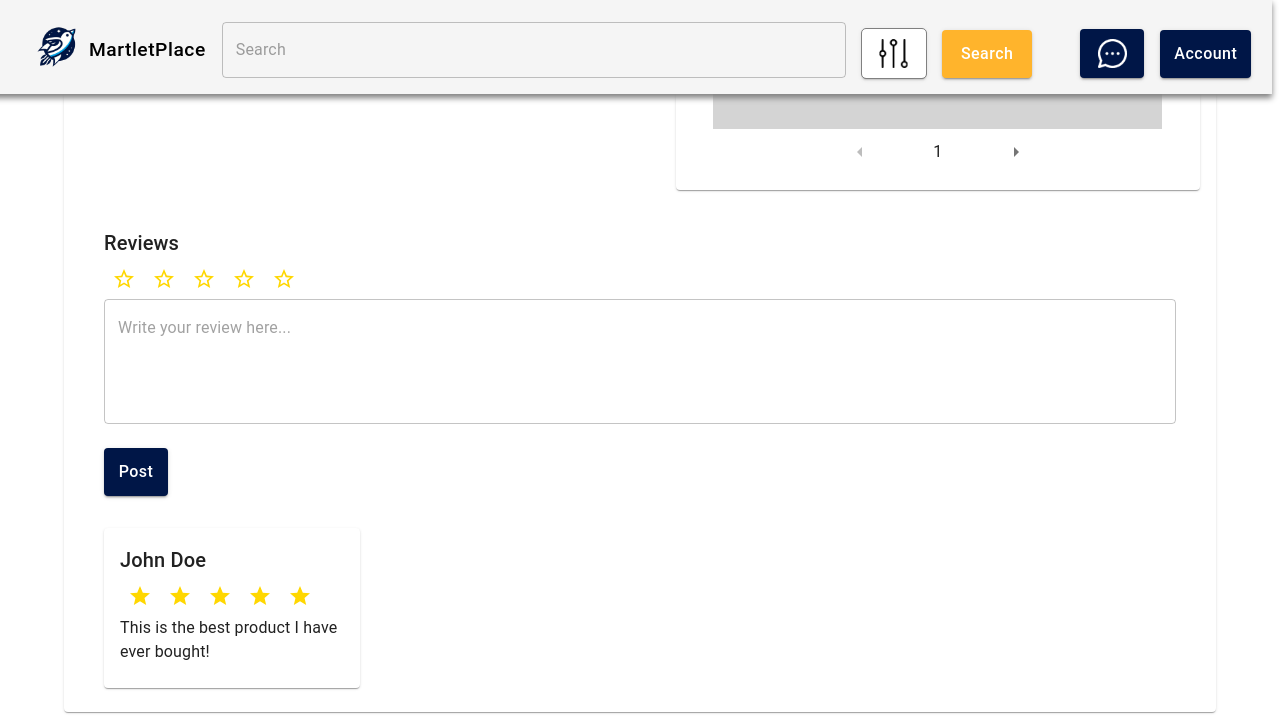
Test: <ViewListing/> › should show an error if review is not correct format
(page scrolled)
Type "This is a great product!" into the text box with id "review_text".
click(640, 362); type("This is a great product!")  # box [118,316,1162,408]
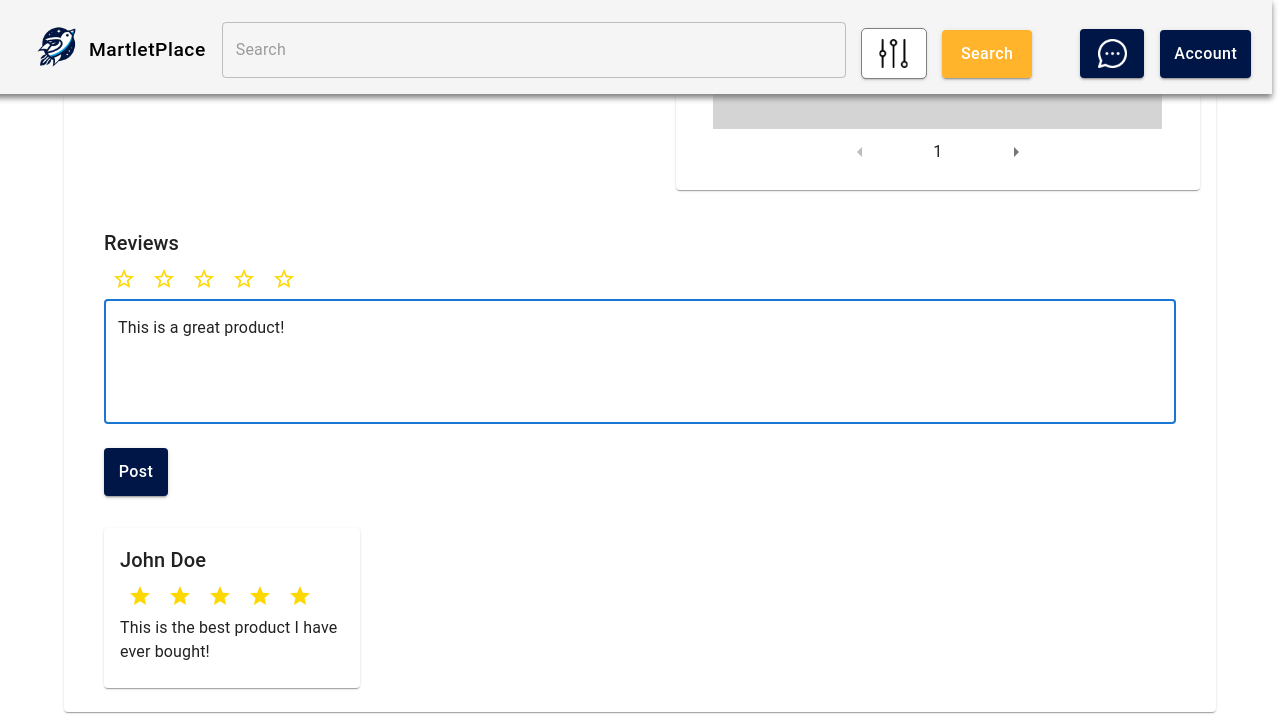
Click the button "Post".
click(136, 472)  # box [104,448,168,496]
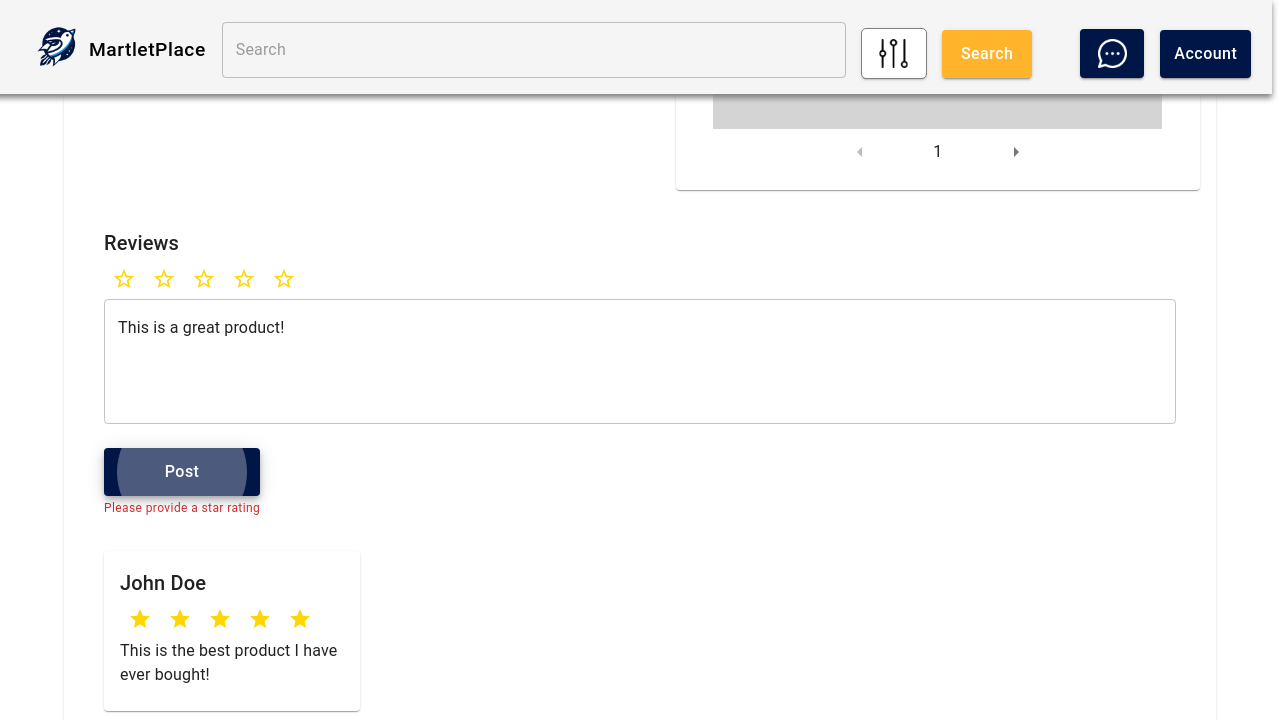
Now the text "Please provide a star rating" is shown, box [104,499,260,519]
